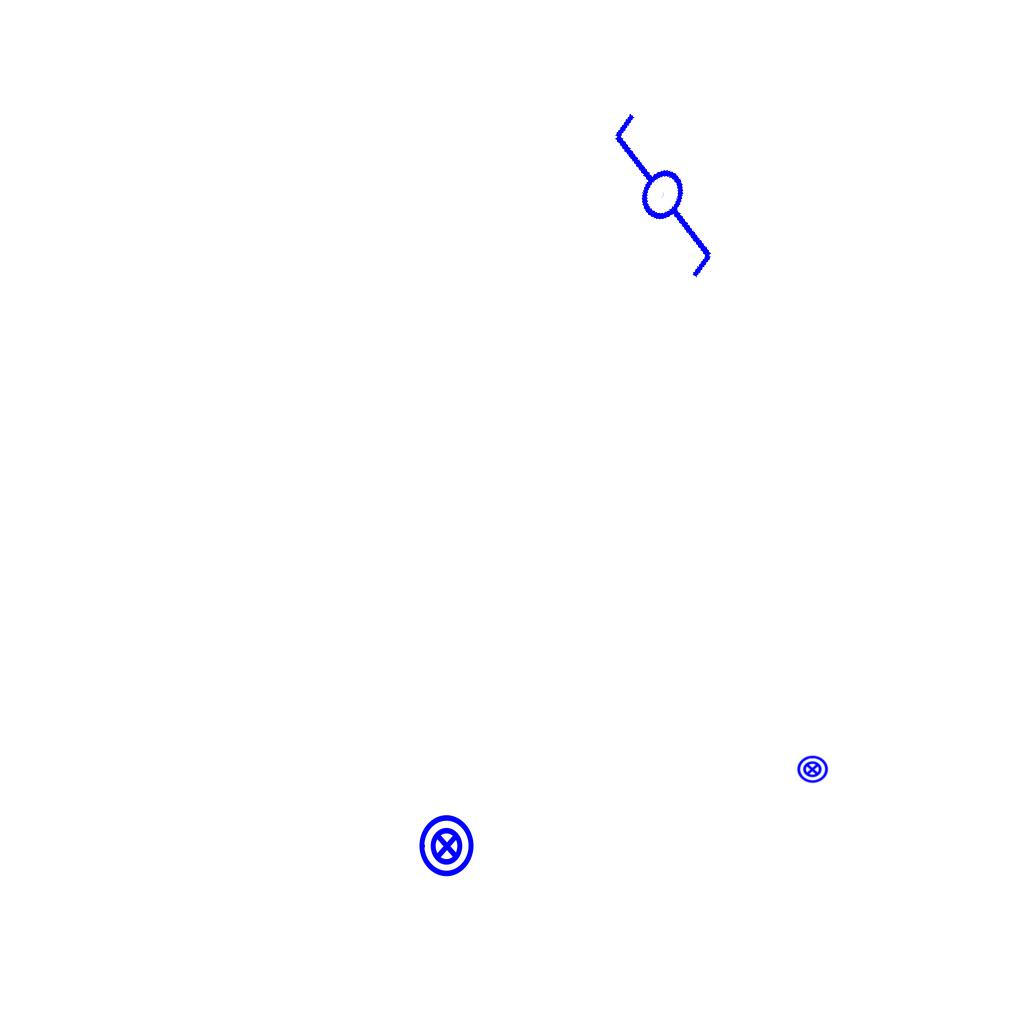Taster_beleuchtet: (414, 813, 480, 879), (796, 753, 829, 786)
Wechselschalter: (572, 89, 763, 287)
